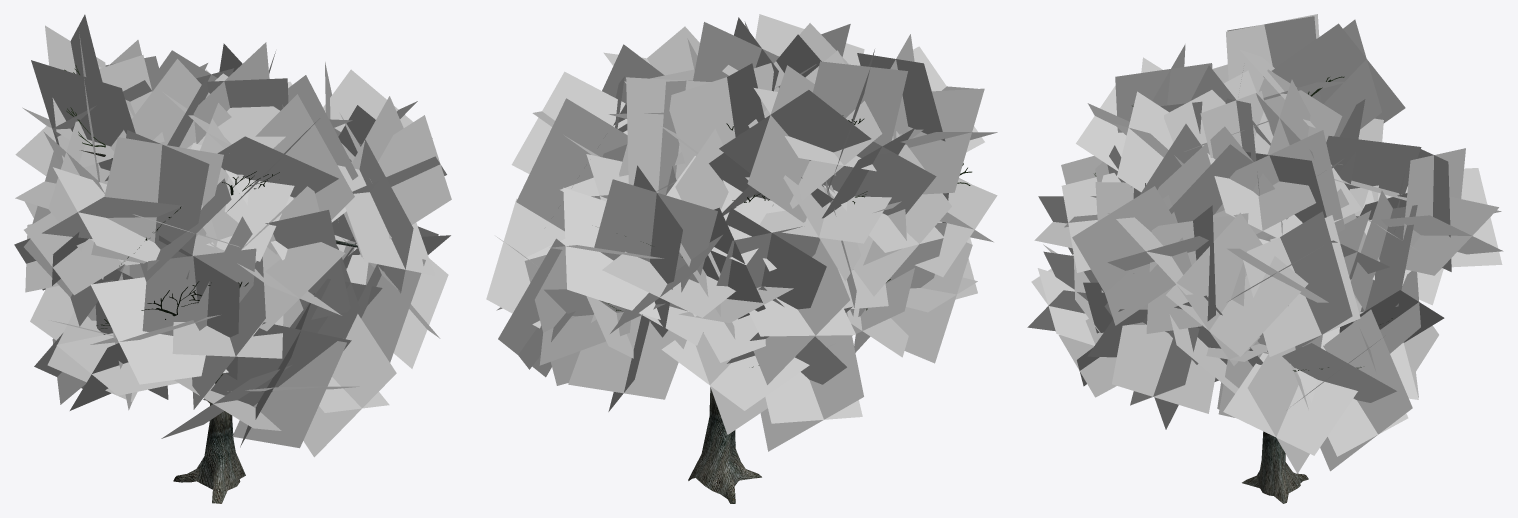
Rendered from tree_1.obj.
The picture shows the model from 3 angles, left to right: view 1: azimuth 30°, elevation 25°; view 2: azimuth 150°, elevation 25°; view 3: azimuth 270°, elevation 25°; orthographic projection. The views are drawn at different scales.
Visible parts, largest first — view 1: leaves, base, branches; view 2: leaves, base; view 3: leaves, base.
Part boxes in pixels (x1=…): leaves: x1=14, y1=14, x2=451, y2=457; base: x1=173, y1=373, x2=245, y2=503; branches: x1=64, y1=65, x2=279, y2=329; leaves: x1=486, y1=14, x2=997, y2=451; base: x1=688, y1=387, x2=761, y2=503; leaves: x1=1027, y1=14, x2=1503, y2=473; base: x1=1242, y1=431, x2=1308, y2=503.
Bounding box in the file's own units: 463 × 505 × 514.
